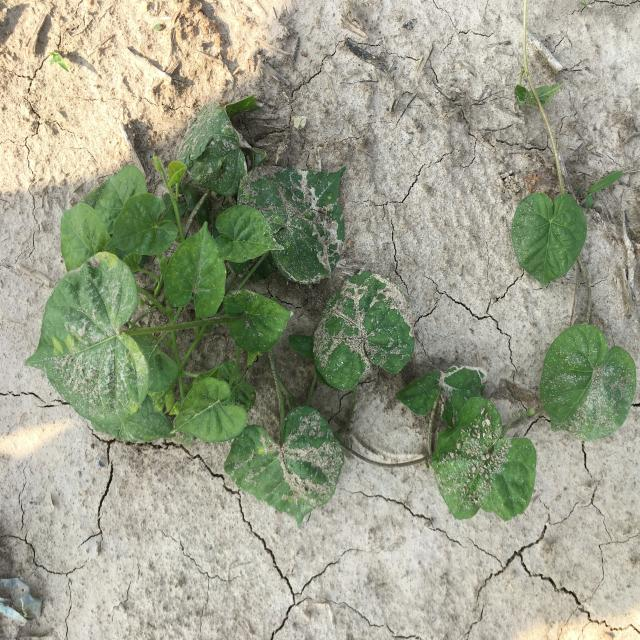MorningGlory: (25, 5, 638, 530)
